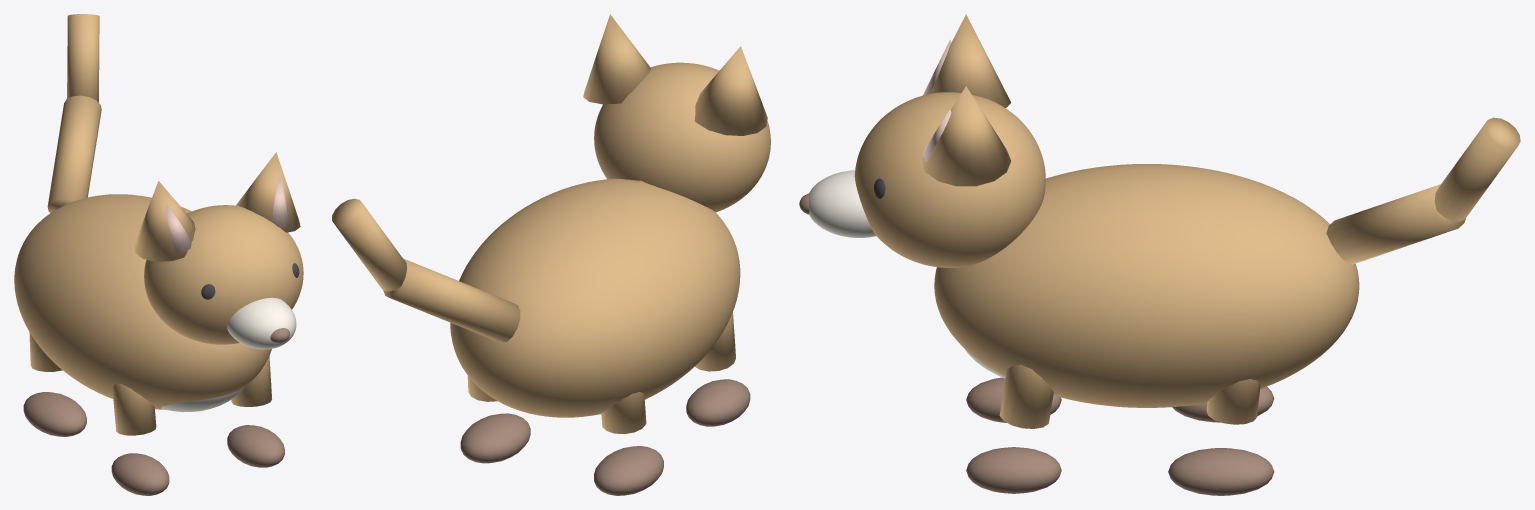
The model's file is cat-ginger-tabby.glb.
The picture shows the model from 3 angles, left to right: view 1: azimuth 30°, elevation 25°; view 2: azimuth 150°, elevation 25°; view 3: azimuth 270°, elevation 25°; orthographic projection. The views are drawn at different scales.
Parts seen in each view (by area): view 1: mat_b97a3c, mat_5c3d2f, mat_f3e7cf, mat_d9a292; view 2: mat_b97a3c, mat_5c3d2f; view 3: mat_b97a3c, mat_5c3d2f, mat_f3e7cf.
Boxes of the visible parts, x1,y1,x2,y2 form: mat_b97a3c: (14,14,303,435); mat_5c3d2f: (23,328,289,495); mat_f3e7cf: (161,297,296,412); mat_d9a292: (166,176,289,253); mat_b97a3c: (332,14,770,433); mat_5c3d2f: (460,379,750,495); mat_b97a3c: (854,14,1520,428); mat_5c3d2f: (799,193,1274,495); mat_f3e7cf: (809,170,1005,378).
Size of the model in its own units: 0.54 by 0.84 by 1.36.
